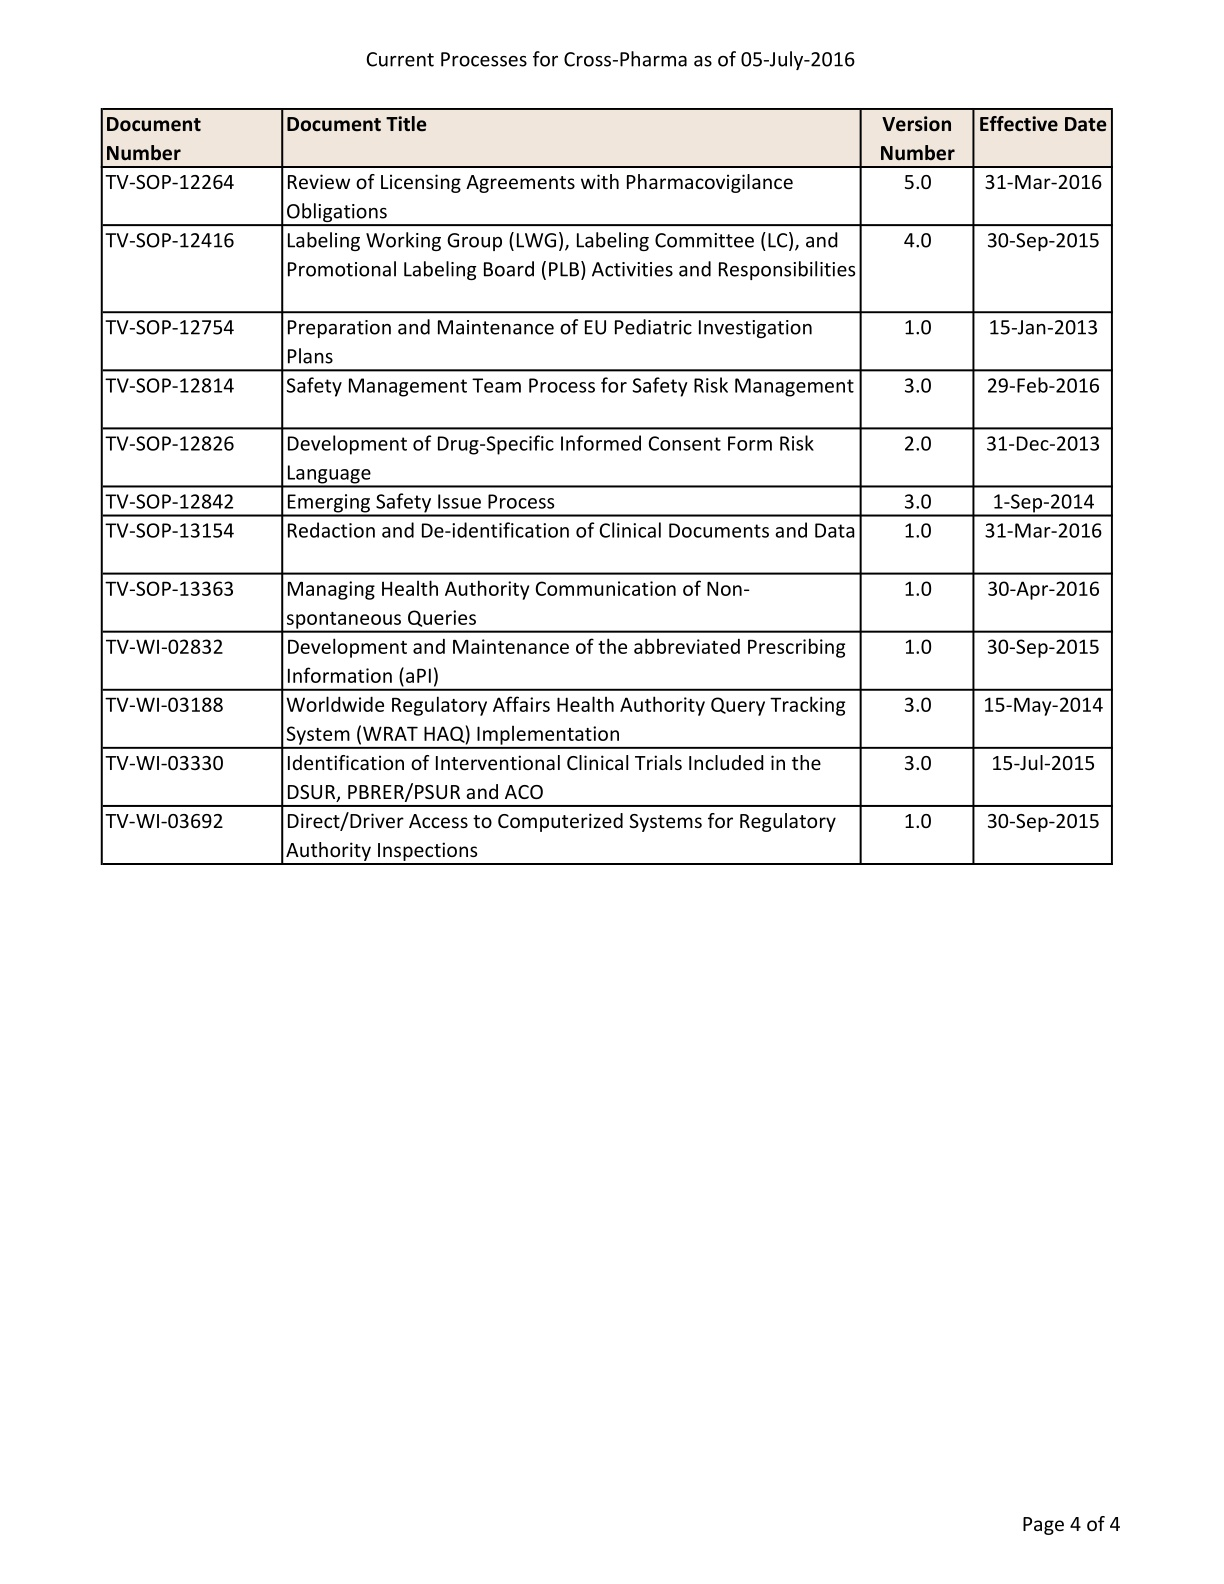full_lined: (100, 105, 1113, 867)
